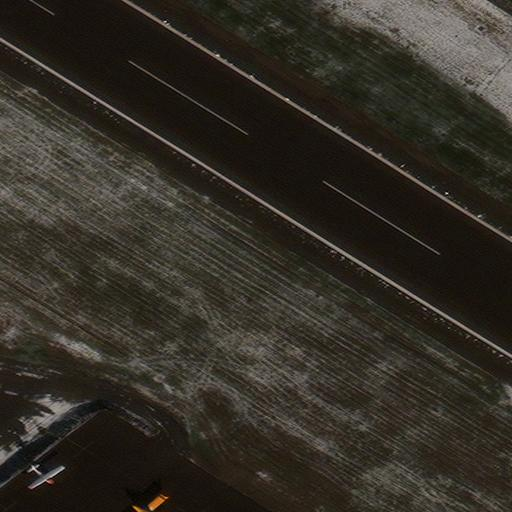Small Civil Transport: (30, 464, 66, 489), (128, 493, 163, 512)
